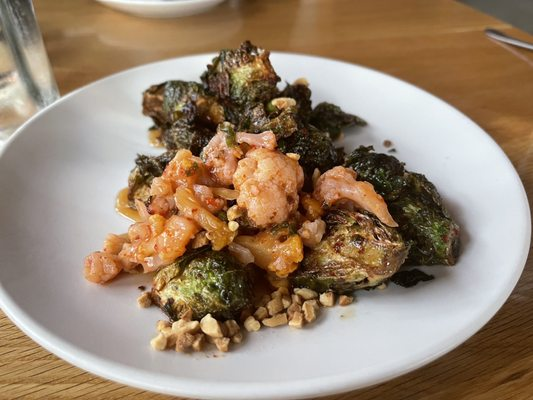curry: (343, 144, 460, 267), (157, 254, 251, 322)
pizza: (0, 0, 61, 144)
sushi: (87, 0, 232, 20)
